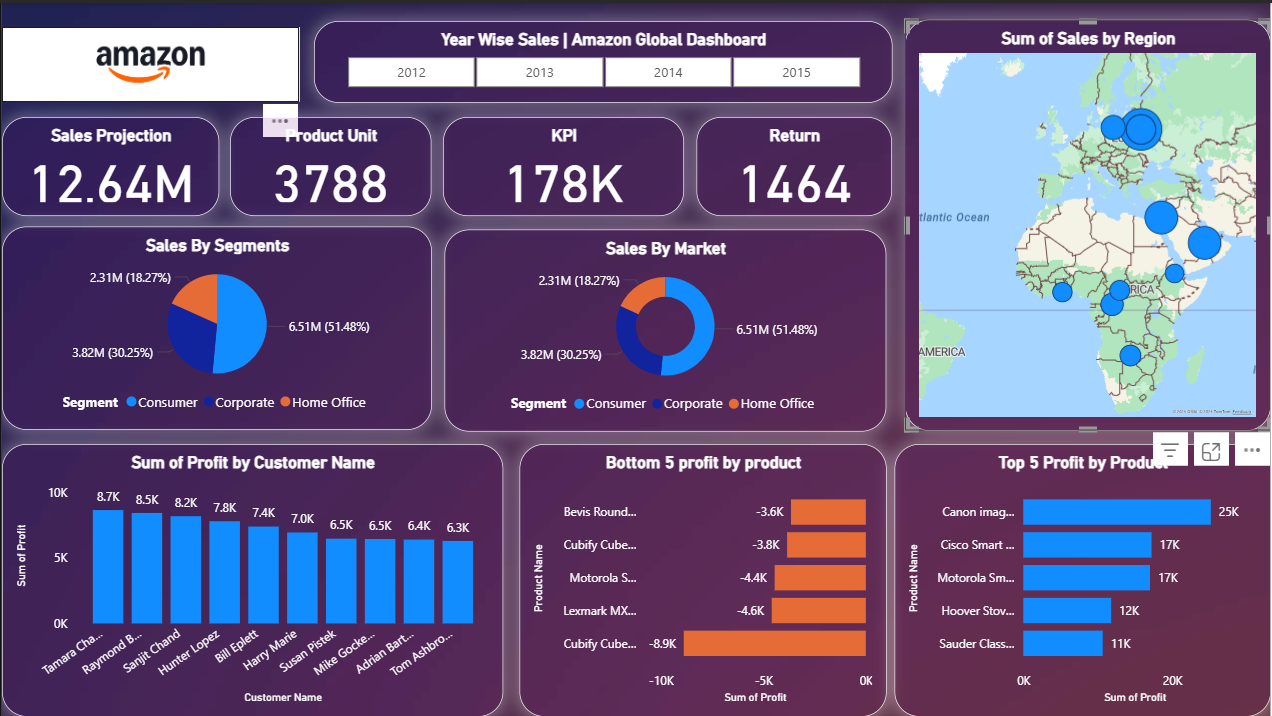

This screenshot's page, from the dashboard's own definition file:
{"tool":"powerbi","page":{"name":"Page 1","canvas":[1280,720],"ordinal":0},"visuals":[{"type":"slicer","title":"Year Wise Sales | Amazon Global Dashboard","fields":{"Values":["Orders.Year"]},"box":[314.9,17.5,583.8,82.7],"z":0},{"type":"image","box":[0,24.6,300.5,75.6],"z":1000},{"type":"card","title":" Sales Projection","fields":{"Values":["Orders.Sales"]},"box":[0,114.5,219.5,100.2],"z":2000},{"type":"card","title":"Product Unit","fields":{"Values":["Orders.Product Name"]},"box":[230.6,114.5,203.6,100.2],"z":3000},{"type":"card","title":"KPI","fields":{"Values":["Orders.Quantity"]},"box":[445.4,114.5,243.4,100.2],"z":4000},{"type":"card","title":"Return","fields":{"Values":["Orders.Ship Date"]},"box":[701.5,114.5,197.2,100.2],"z":5000},{"type":"pieChart","title":"Sales By Segments","fields":{"Y":["Orders.Sales"],"Category":["Orders.Segment"]},"box":[0,225.9,434.2,205.2],"z":6000},{"type":"donutChart","title":"Sales By Market","fields":{"Y":["Orders.Sales"],"Category":["Orders.Segment","Orders.Market"]},"box":[446,228.7,446,204.1],"z":7000},{"type":"columnChart","fields":{"Category":["Orders.Customer Name"],"Y":["Orders.Profit"]},"box":[0,445.4,505.8,275.2],"z":8000},{"type":"clusteredBarChart","title":"Bottom 5 profit by product","fields":{"Category":["Orders.Product Name"],"Y":["Orders.Profit"]},"box":[521.7,445.4,370.6,275.2],"z":9000},{"type":"clusteredBarChart","title":"Top 5 Profit by Product","fields":{"Category":["Orders.Product Name"],"Y":["Orders.Profit"]},"box":[900.3,445.4,380.2,275.2],"z":10000},{"type":"azureMap","fields":{"Category":["Orders.Region"],"Size":["Orders.Sales"]},"box":[911.4,15.9,369,415.1],"z":11000}]}

Visuals, with their boxes in screenshot pixels (x1, y1, x2, y2), scaled from the page's 1280x720 canvas onto the 1272x716 screenshot:
"Year Wise Sales | Amazon Global Dashboard" slicer: 313, 17, 893, 100
image: 0, 24, 299, 100
" Sales Projection" card: 0, 114, 218, 214
"Product Unit" card: 229, 114, 431, 214
"KPI" card: 443, 114, 684, 214
"Return" card: 697, 114, 893, 214
"Sales By Segments" pieChart: 0, 225, 431, 429
"Sales By Market" donutChart: 443, 227, 886, 430
columnChart - Orders.Customer Name x Orders.Profit: 0, 443, 503, 715
"Bottom 5 profit by product" clusteredBarChart: 518, 443, 887, 715
"Top 5 Profit by Product" clusteredBarChart: 895, 443, 1271, 715
azureMap - Orders.Region x Orders.Sales: 906, 16, 1271, 429
